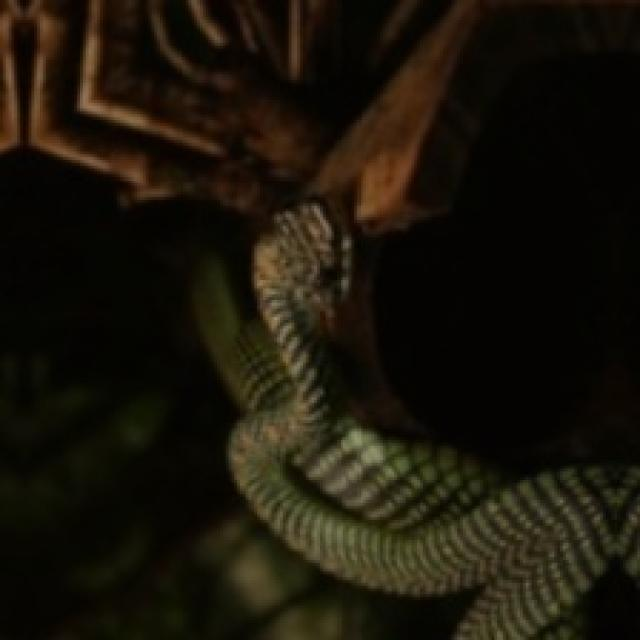paradise tree snake: (194, 203, 637, 637), (249, 203, 340, 414), (397, 440, 517, 543)
